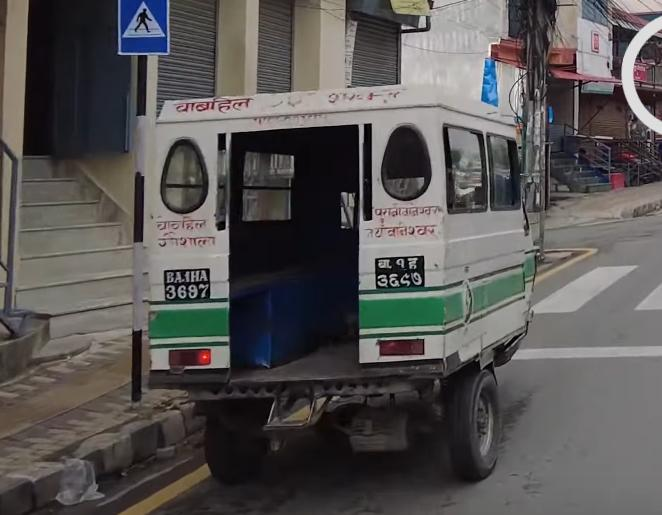tempo: (138, 82, 544, 491)
